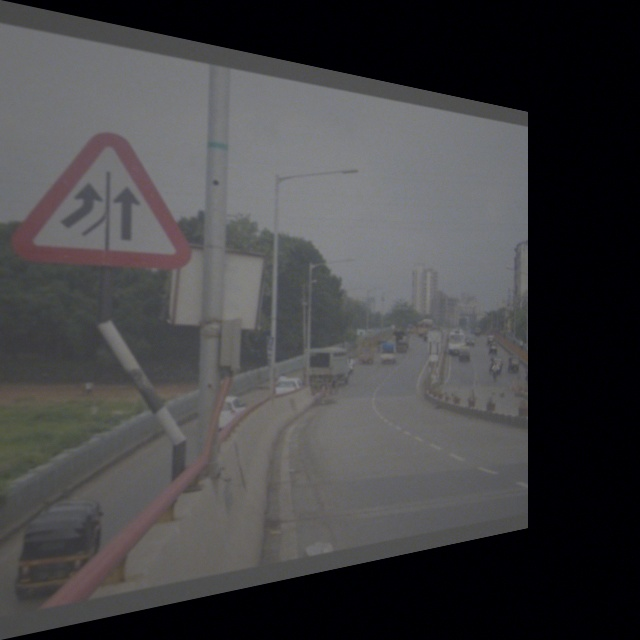Merge_Traffic_Ahead: (34, 111, 170, 277)
